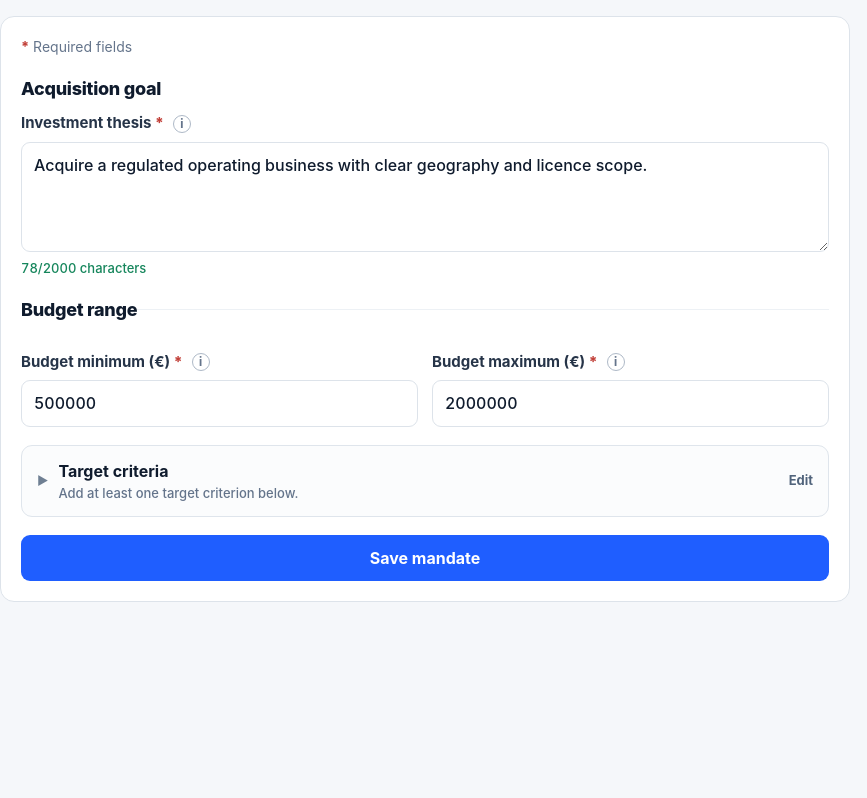
Scenario: ModerationForm › keeps populated secondary criteria compact until the Buyer opens them
The image size is (867, 798).
Click the text "Target criteria" at coordinates (113, 471), box [58, 461, 168, 481]
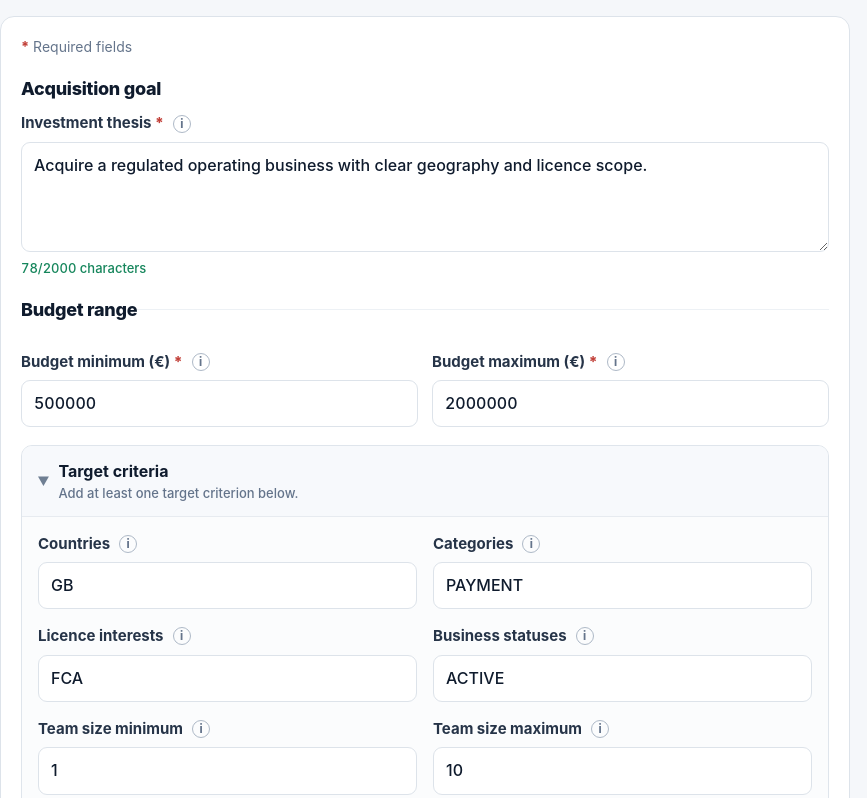
Expected: the field labelled "Categories" is shown, [433, 562, 812, 609]
